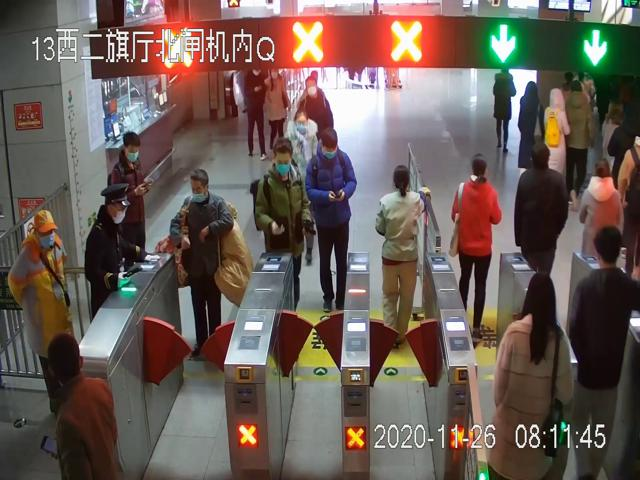person: (487, 271, 572, 477), (8, 209, 71, 417), (447, 155, 504, 346), (256, 138, 314, 319), (176, 168, 230, 357), (376, 163, 425, 345), (307, 130, 355, 315), (84, 179, 131, 319), (111, 132, 154, 270)
